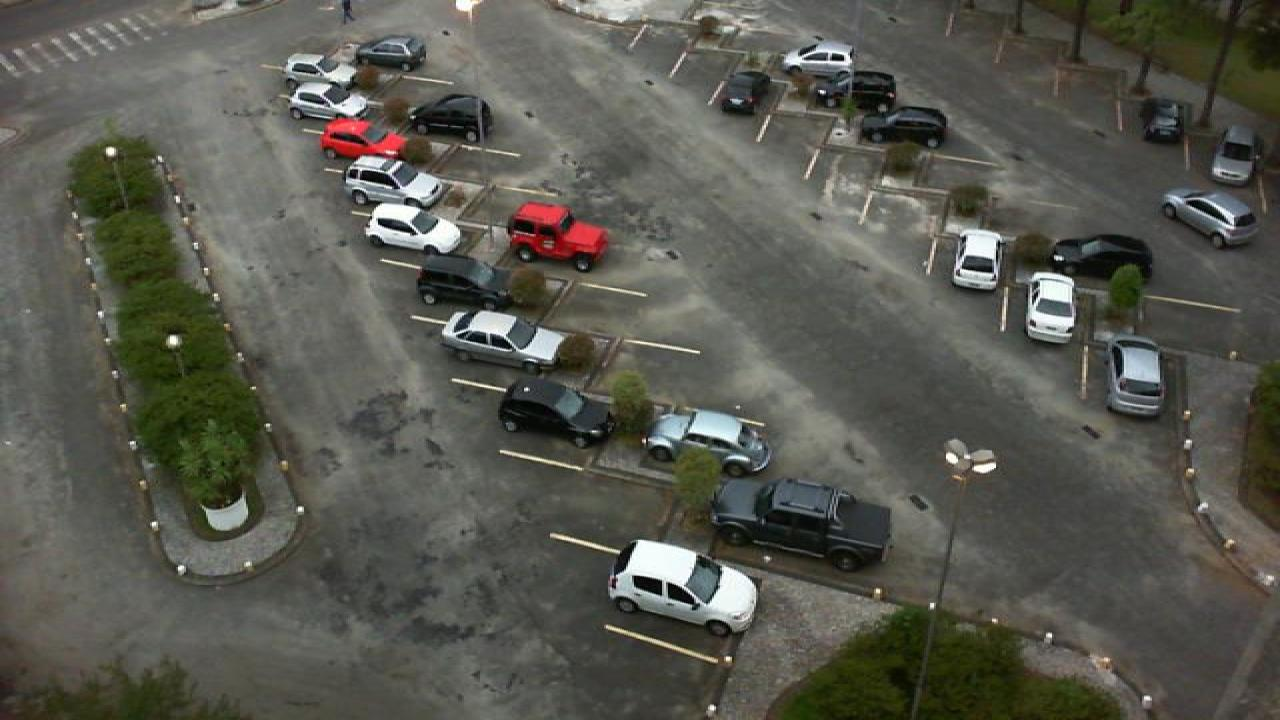Car: (708, 476, 896, 572), (606, 536, 760, 636), (642, 407, 774, 477), (496, 375, 618, 449), (438, 308, 570, 372), (500, 200, 612, 274), (1158, 186, 1258, 250), (410, 253, 516, 311), (1050, 232, 1156, 286), (342, 156, 452, 207), (362, 202, 464, 257), (1104, 334, 1170, 419), (1022, 271, 1080, 347), (408, 92, 490, 144), (318, 117, 408, 163), (860, 103, 950, 146), (812, 71, 898, 115), (948, 228, 1006, 292), (282, 53, 366, 94), (284, 84, 368, 125), (1210, 124, 1262, 187), (782, 44, 860, 84), (354, 35, 428, 72), (718, 68, 774, 115), (1138, 93, 1188, 145)
